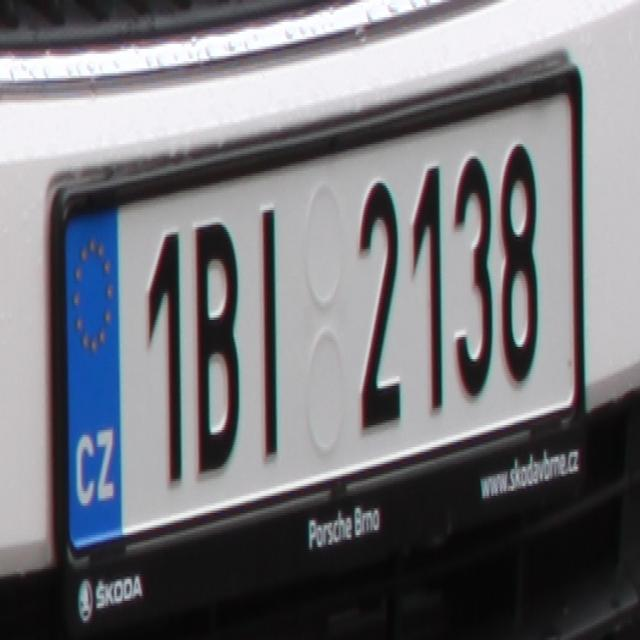1: (408, 161, 449, 415), (148, 234, 184, 476)
2: (354, 180, 404, 444)
3: (454, 156, 497, 394)
8: (500, 136, 540, 378)
B: (192, 227, 237, 472)
